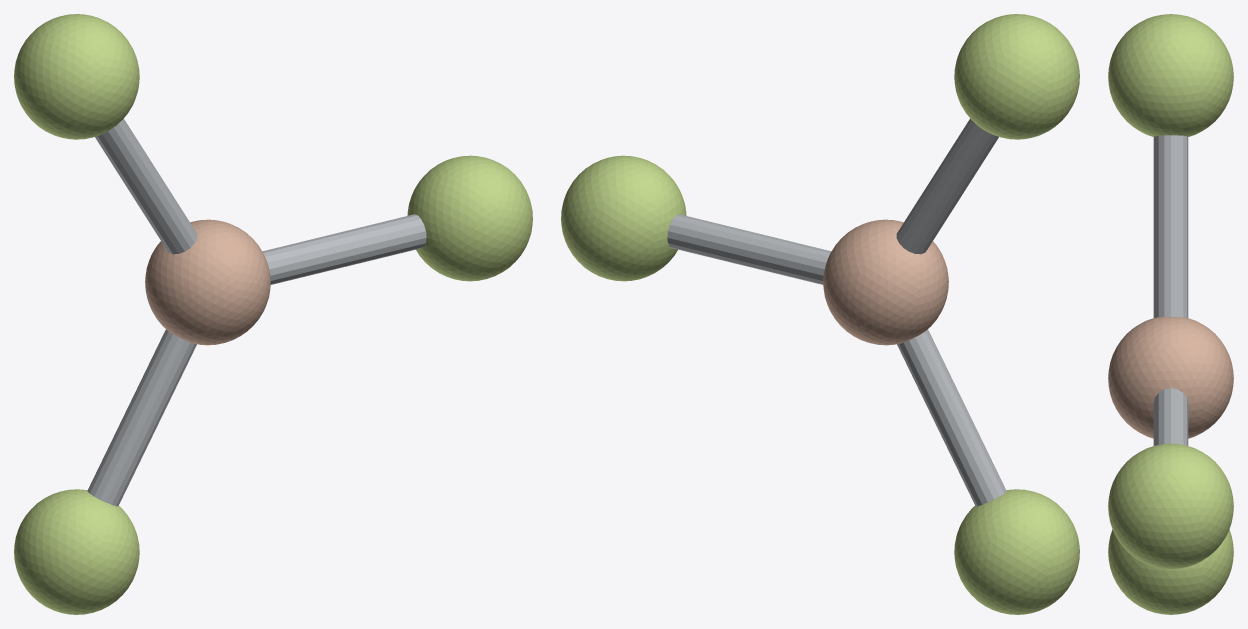
File: fluoreto_boro_BF3.glb
3 renders of one model, left to right at view 1: azimuth 30°, elevation 25°; view 2: azimuth 150°, elevation 25°; view 3: azimuth 270°, elevation 25°, orthographic.
Visible parts, largest first — view 1: F_2, F_3, F_1, B_0, bond_0_3_0, bond_0_1_0, bond_0_2_0; view 2: F_2, F_3, F_1, B_0, bond_0_3_0, bond_0_1_0, bond_0_2_0; view 3: F_1, F_2, B_0, bond_0_2_0, F_3, bond_0_1_0.
Part boxes in pixels (box(x1,y1,x2,y2)): F_2: box(14, 14, 139, 139); F_3: box(14, 489, 139, 614); F_1: box(407, 155, 532, 281); B_0: box(145, 219, 270, 345); bond_0_3_0: box(87, 329, 196, 506); bond_0_1_0: box(262, 214, 426, 284); bond_0_2_0: box(95, 118, 197, 254); F_2: box(954, 14, 1079, 139); F_3: box(954, 489, 1079, 614); F_1: box(561, 155, 686, 281); B_0: box(823, 219, 948, 345); bond_0_3_0: box(897, 329, 1006, 506); bond_0_1_0: box(667, 214, 831, 284); bond_0_2_0: box(896, 118, 998, 254); F_1: box(1108, 443, 1233, 569); F_2: box(1108, 14, 1233, 136); B_0: box(1108, 317, 1233, 438); bond_0_2_0: box(1153, 135, 1188, 317); F_3: box(1108, 529, 1233, 614); bond_0_1_0: box(1153, 388, 1188, 445).
Size of the model in its own units: 2.49 by 2.79 by 0.54.
